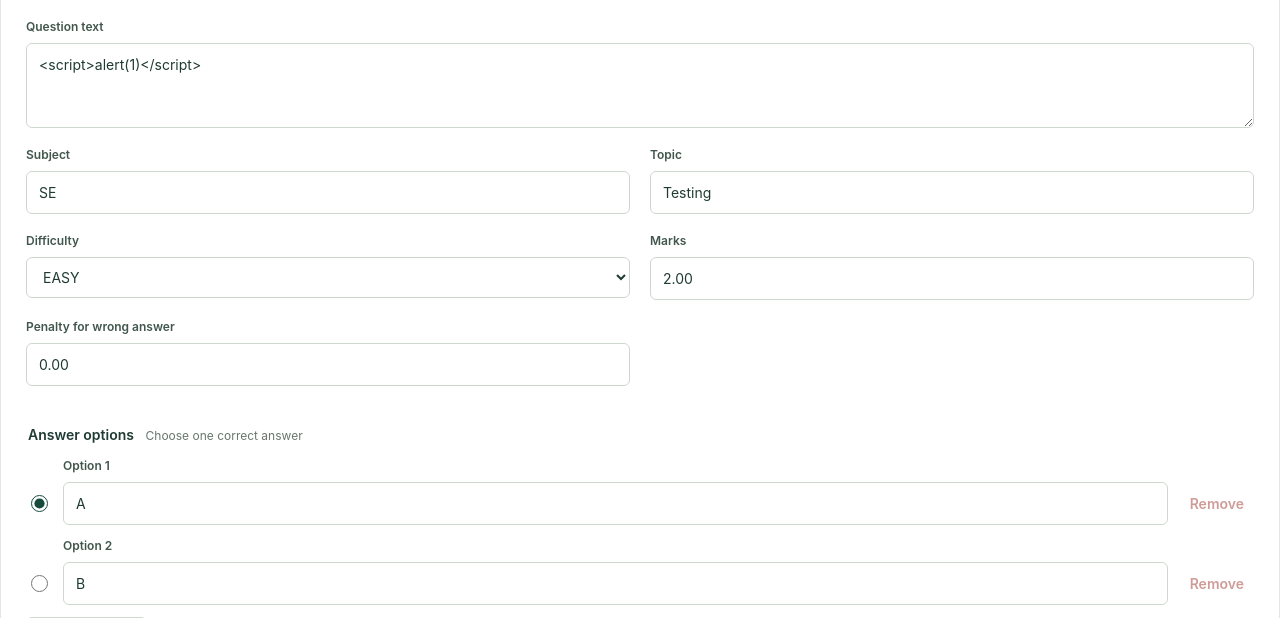
Test case: question editor › rejects duplicate option text before sending
Replace the text in the field labelled "Option 2" with "a" at (615, 584), box left=63, top=562, right=1168, bottom=605
(page scrolled)
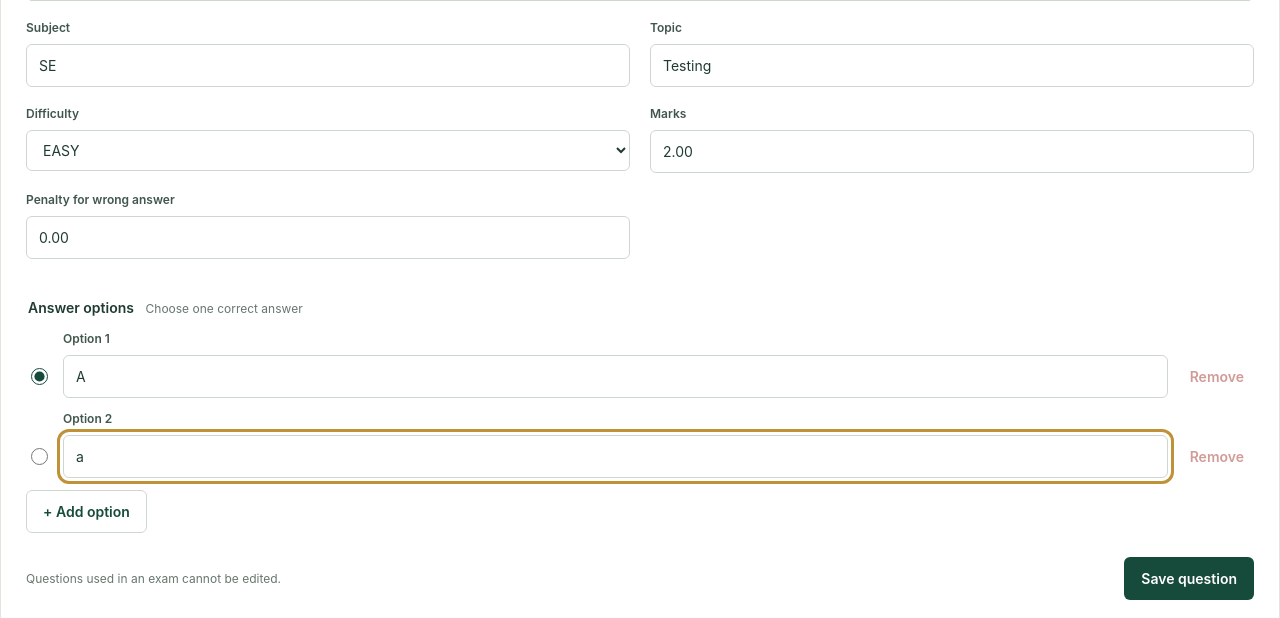
Click the button "Save question".
click(1189, 578)  # box left=1124, top=557, right=1254, bottom=600
(page scrolled)
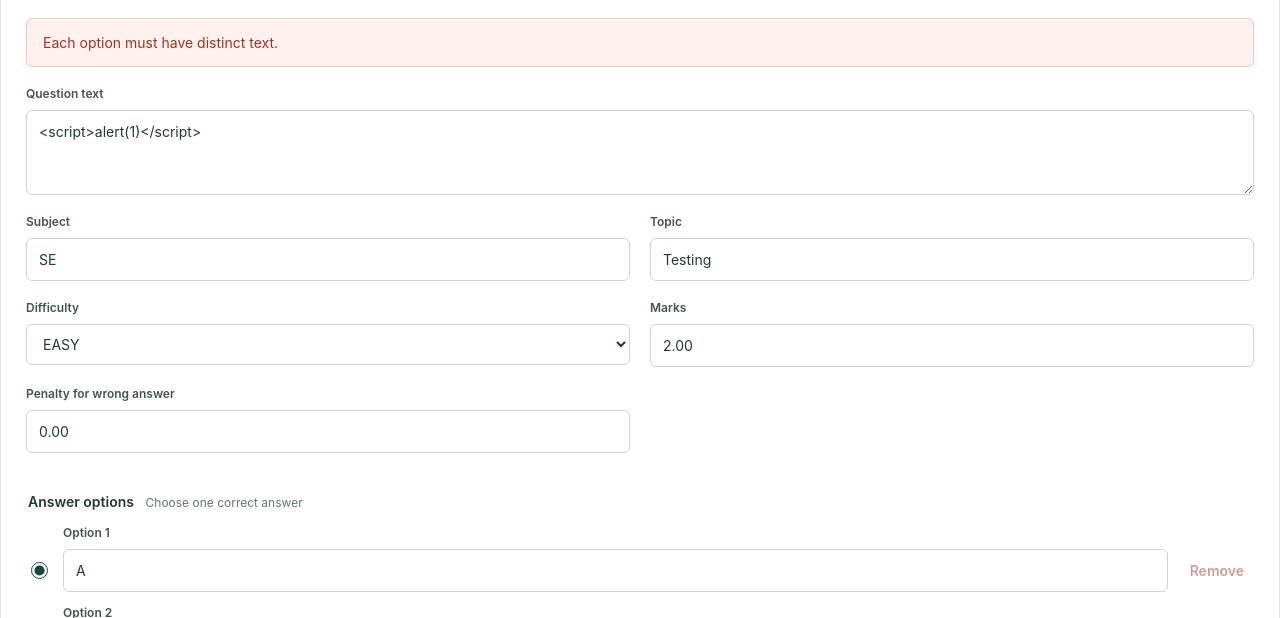
Expected: the message shows "distinct", left=43, top=34, right=278, bottom=51
